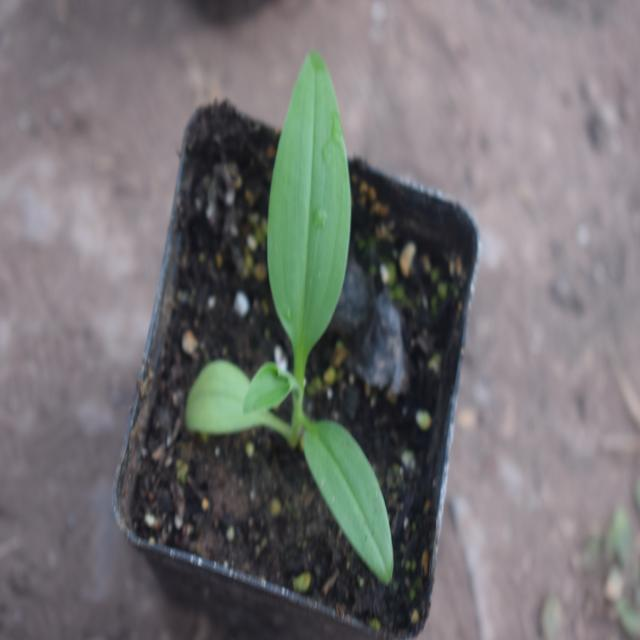Common Dayflower: (237, 42, 396, 564)
